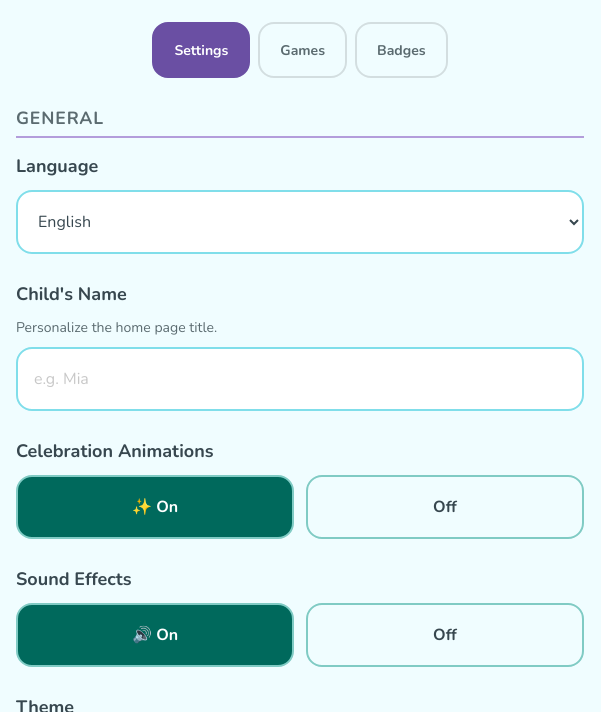
Test: AdminPage › renders a tag input for each game
This screenshot has width=601, height=712.
Click the tab "Games": point(303, 50) 258,22 -> 347,78
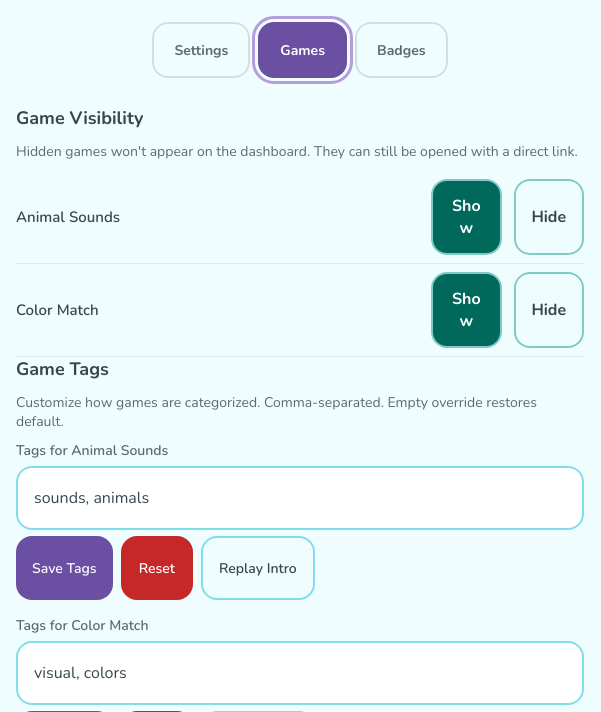
Expected: the heading "Game Tags" is shown, 16,357 -> 109,381
Expected: the field labelled "Tags for Animal Sounds" is shown, 16,466 -> 584,530
Expected: the field labelled "Tags for Color Match" is shown, 16,641 -> 584,705
